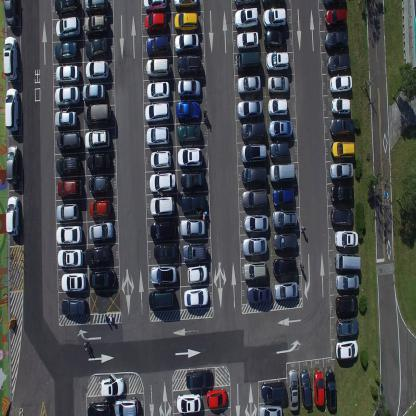car: (84, 102, 112, 127), (4, 88, 19, 132), (3, 35, 17, 81), (148, 286, 174, 310), (55, 14, 81, 38), (148, 171, 176, 193), (84, 243, 112, 265), (241, 142, 267, 165), (185, 368, 212, 390), (180, 169, 205, 192), (261, 379, 286, 402), (82, 12, 107, 35), (6, 195, 20, 236), (183, 286, 209, 308), (269, 162, 295, 184), (240, 119, 266, 141), (329, 116, 355, 138), (89, 268, 116, 289), (334, 251, 362, 271), (84, 36, 108, 59), (234, 6, 258, 29), (182, 241, 207, 263), (145, 124, 170, 146), (100, 376, 125, 398), (84, 128, 109, 150), (56, 129, 81, 151), (273, 279, 298, 301), (236, 49, 261, 71), (324, 29, 349, 51), (150, 220, 176, 241), (144, 101, 170, 122), (56, 224, 82, 245), (55, 154, 81, 175), (54, 85, 80, 106), (242, 235, 268, 256), (272, 208, 298, 229), (241, 165, 267, 186), (236, 98, 262, 119), (6, 143, 19, 185), (241, 188, 268, 208), (150, 194, 174, 216), (177, 54, 201, 76), (287, 368, 299, 412), (325, 368, 337, 412), (54, 40, 78, 62), (243, 259, 267, 281), (328, 160, 353, 181), (236, 74, 261, 95), (326, 53, 351, 74), (176, 392, 202, 412), (88, 220, 114, 240), (150, 265, 177, 284), (299, 369, 312, 408), (145, 34, 168, 56), (144, 11, 167, 33), (335, 338, 358, 360), (87, 151, 110, 173), (176, 100, 200, 121), (88, 198, 112, 219), (334, 294, 358, 315), (273, 256, 297, 277), (266, 50, 290, 71), (329, 74, 353, 95), (181, 193, 206, 213), (177, 146, 202, 166), (146, 58, 171, 78), (174, 32, 199, 52), (61, 272, 86, 292), (57, 177, 82, 197), (55, 64, 80, 84), (273, 232, 298, 252), (153, 242, 179, 261), (114, 396, 140, 415), (206, 387, 228, 409), (336, 316, 358, 338), (272, 186, 294, 208), (268, 73, 290, 95), (147, 79, 170, 100), (177, 123, 201, 143), (62, 296, 86, 316), (85, 60, 109, 80), (268, 119, 292, 139), (262, 7, 286, 27), (243, 213, 268, 232), (180, 218, 206, 236), (57, 248, 83, 266), (246, 285, 272, 303), (330, 140, 356, 158), (88, 173, 110, 194), (264, 29, 286, 50), (56, 202, 79, 222), (324, 8, 347, 28), (313, 370, 325, 408), (330, 207, 354, 226), (330, 184, 354, 203), (186, 264, 207, 285), (268, 96, 288, 118), (54, 108, 77, 127), (236, 30, 259, 49), (174, 12, 198, 30), (87, 398, 111, 416), (334, 230, 358, 248), (150, 148, 171, 168), (178, 79, 200, 98), (82, 83, 105, 101), (336, 273, 359, 291), (55, 0, 80, 16), (269, 140, 289, 160), (3, 0, 18, 26), (331, 96, 351, 115), (83, 0, 108, 14), (258, 403, 283, 415), (173, 0, 199, 11), (143, 0, 167, 11), (235, 0, 258, 8), (261, 0, 284, 8), (322, 0, 344, 8)
